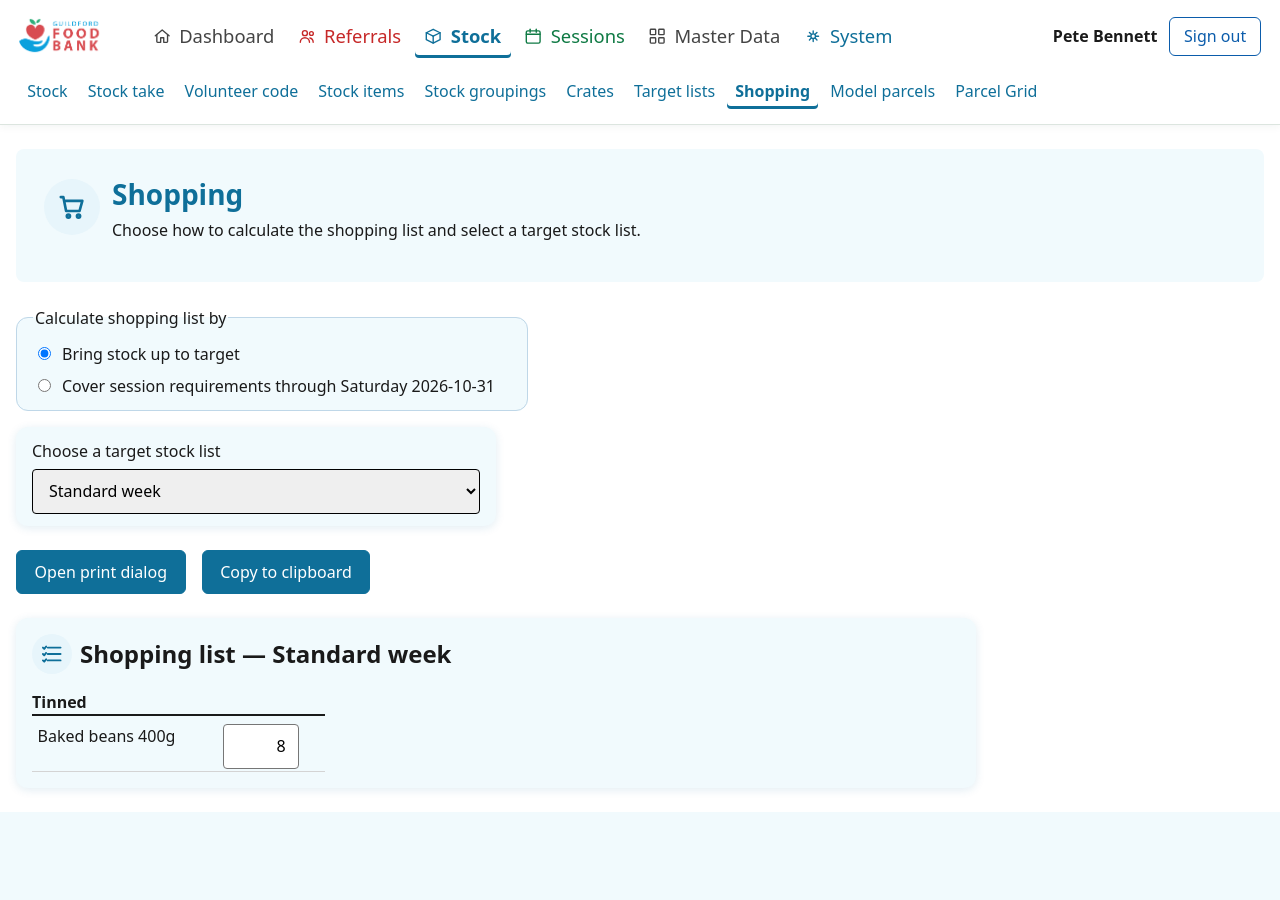
it: the shopping screen › prepares this week’s open pick lists before calculating selected-list requirements
Click the radio button labelled "Cover session requirements through Saturday 2026-10-31": x=44, y=385 [38,379,51,392]
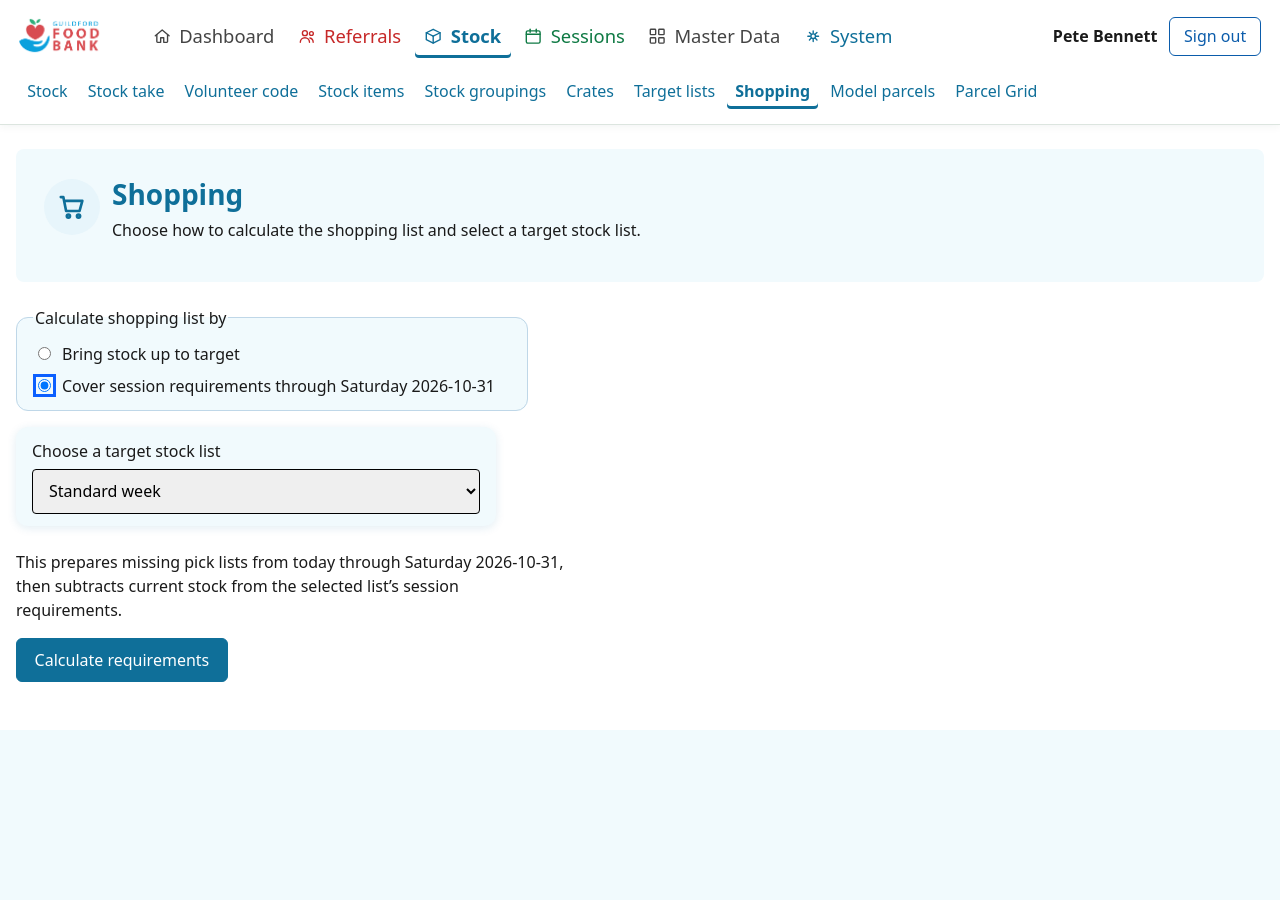
Click the button "Calculate requirements": x=122, y=660 [16,638,228,682]
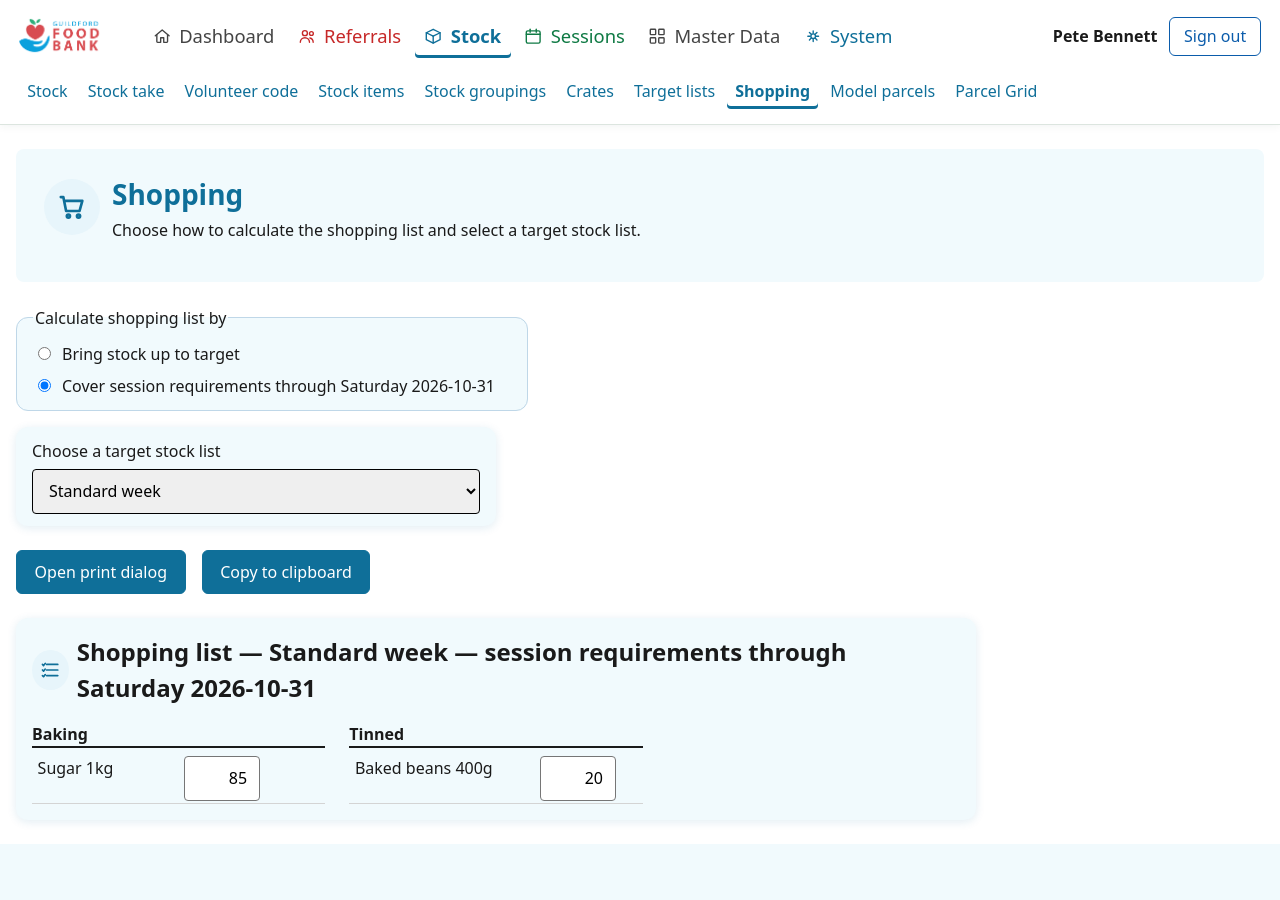
Result: the field named "Quantity for Baked beans 400g" next to "Baked beans 400g" holds "20" at [540,756,616,801]
Result: the field named "Quantity for Sugar 1kg" next to "Sugar 1kg" holds "85" at [184,756,260,801]
Click the radio button labelled "Bring stock up to target": x=44, y=353 [38,347,51,360]
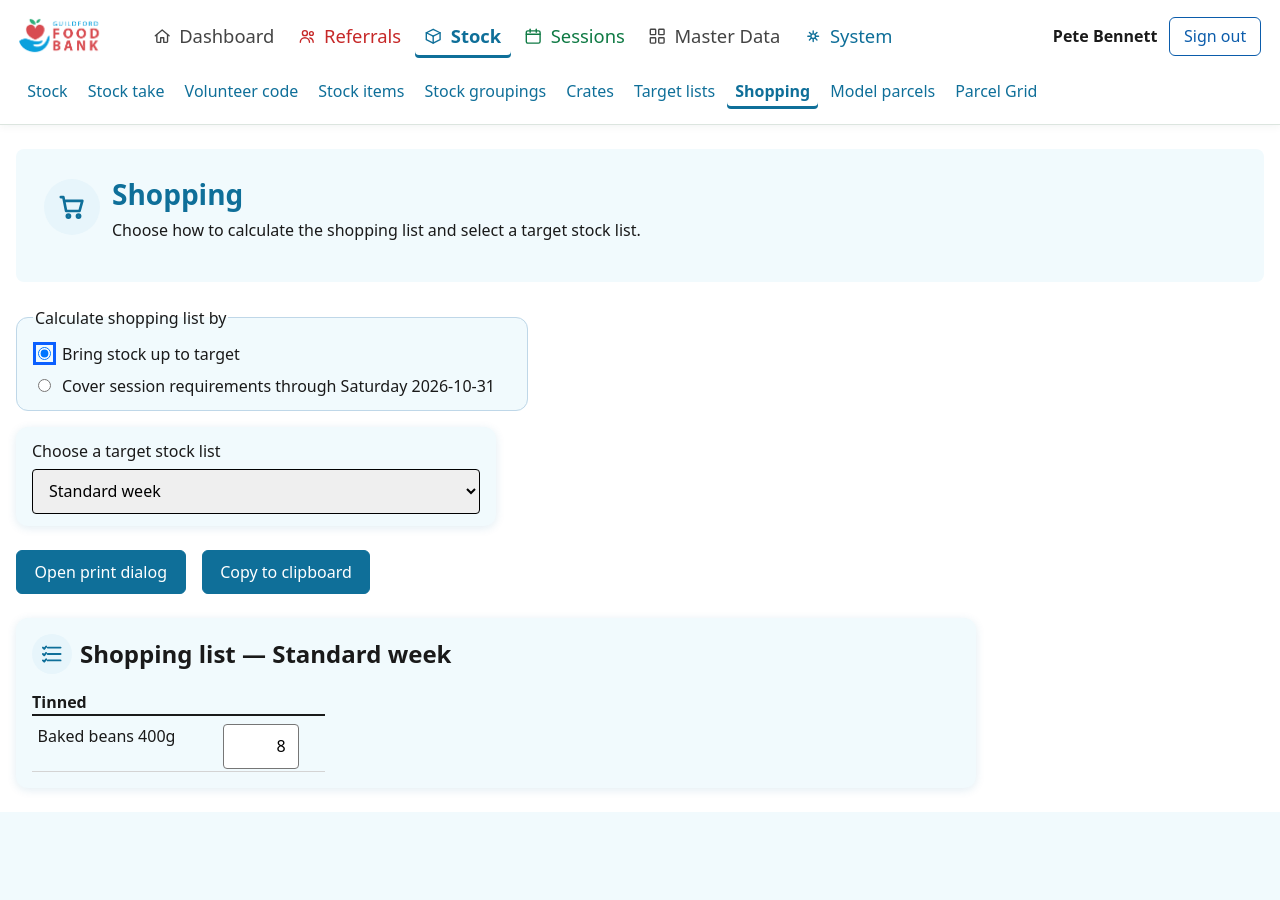
Result: the field named "Quantity for Baked beans 400g" holds "8" at [223,724,299,769]
Click the radio button labelled "Cover session requirements through Saturday 2026-10-31": x=44, y=385 [38,379,51,392]
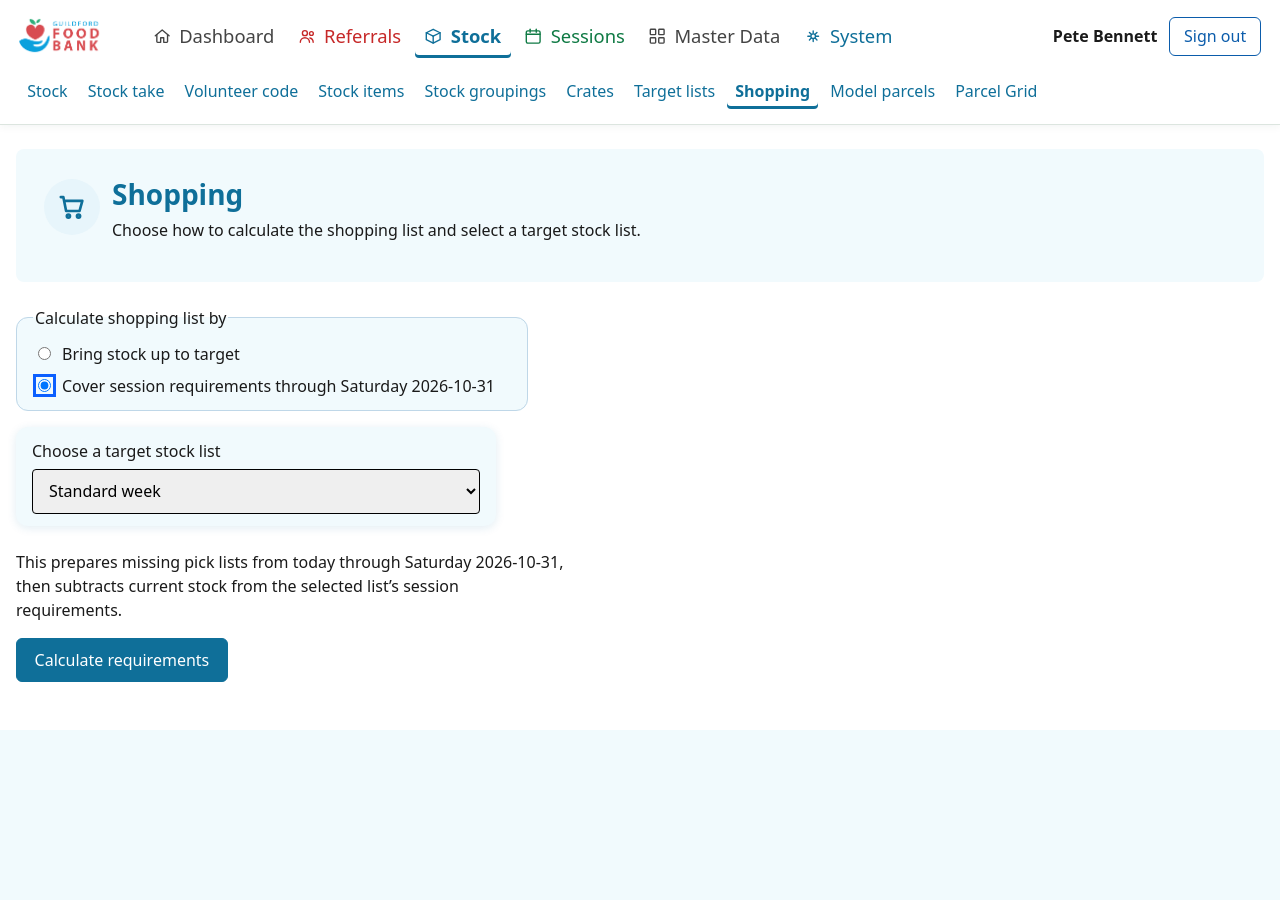
Result: the button "Calculate requirements" is shown at [16,638,228,682]
Result: the button "Open print dialog" is gone
